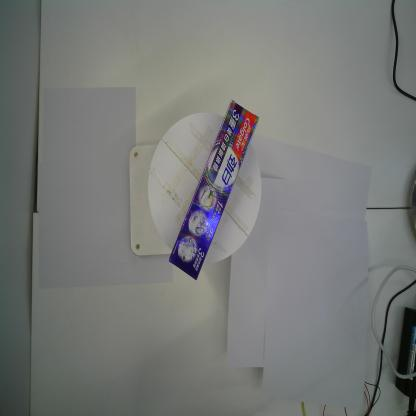Personal Hygiene: (168, 100, 260, 278)
